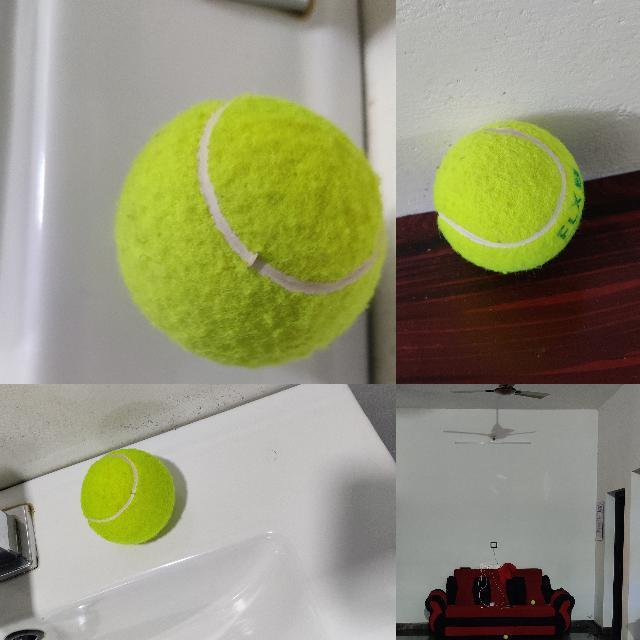tennis-ball: (106, 88, 392, 373), (432, 120, 584, 274), (80, 448, 177, 545), (531, 600, 535, 604), (503, 634, 507, 638)
